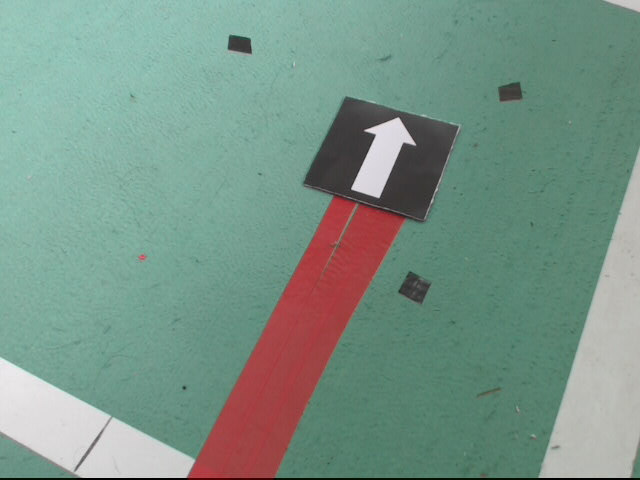straight: (301, 95, 460, 220)
